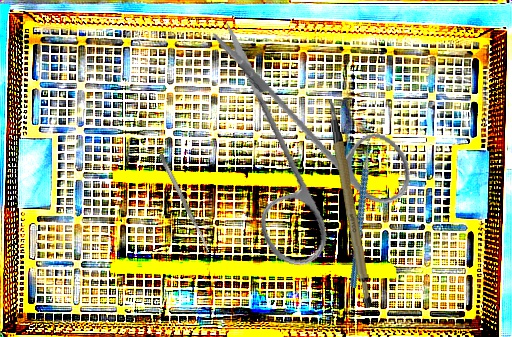Chopper: (297, 125, 419, 289)
Iris Scissors: (172, 20, 433, 284)
Scalpel Handle: (327, 97, 377, 309)
Spatula Surgical: (157, 152, 212, 254)
